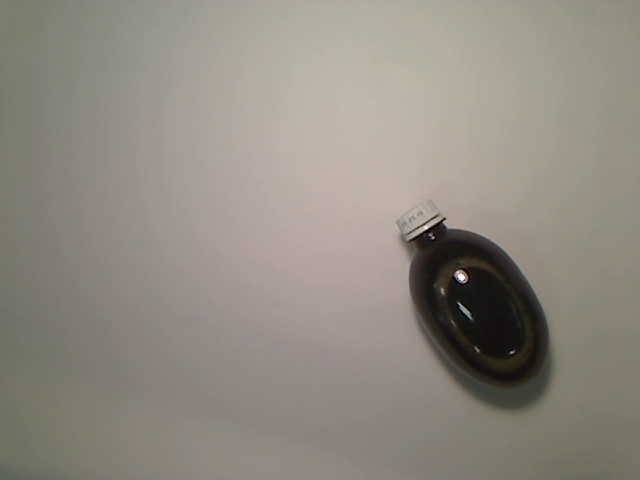plast_bottle: (393, 197, 554, 392)
